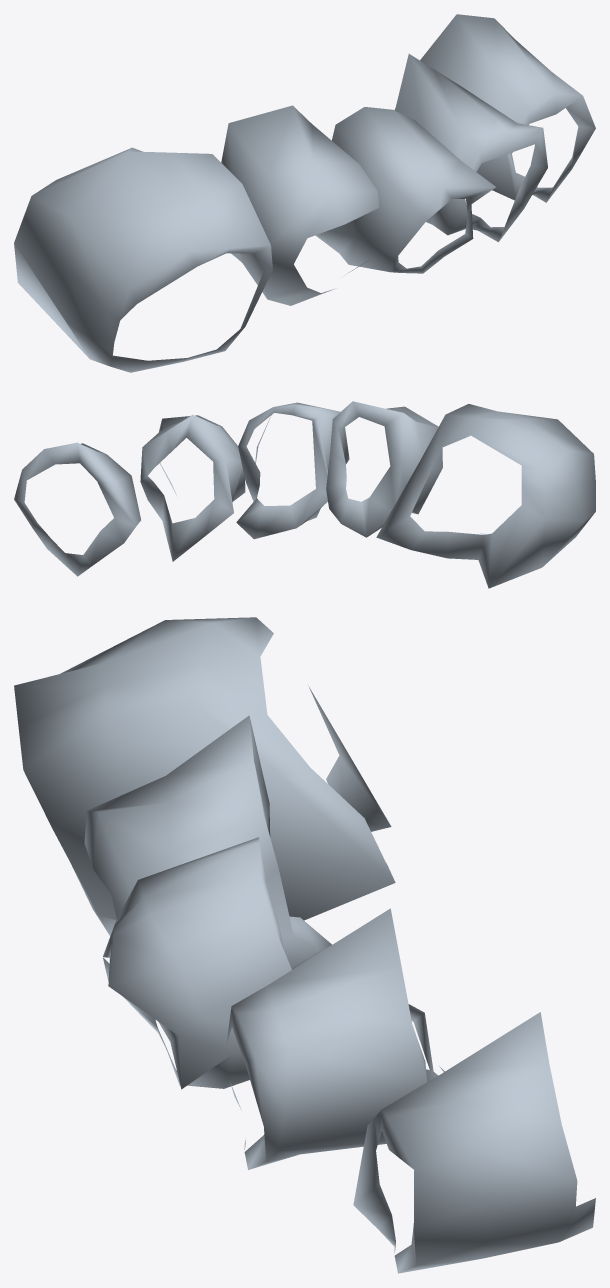
File: articular-capsules-of-metatarsophalangeal-joints-l.glb
3 renders of one model, top to bottom at view 1: azimuth 30°, elevation 25°; view 2: azimuth 150°, elevation 25°; view 3: azimuth 270°, elevation 25°, orthographic. The views are drawn at different scales.
Visible parts, largest first — view 1: Articular capsules of metatarsophalangeal joints.l; view 2: Articular capsules of metatarsophalangeal joints.l; view 3: Articular capsules of metatarsophalangeal joints.l.
Boxes of the visible parts, x1,y1,x2,y2 form: Articular capsules of metatarsophalangeal joints.l: (14, 14, 595, 372); Articular capsules of metatarsophalangeal joints.l: (14, 401, 595, 588); Articular capsules of metatarsophalangeal joints.l: (14, 617, 595, 1273).
Size of the model in its own units: 0.0827 by 0.0274 by 0.0463.
